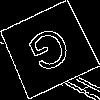G: (24, 24, 78, 83)
